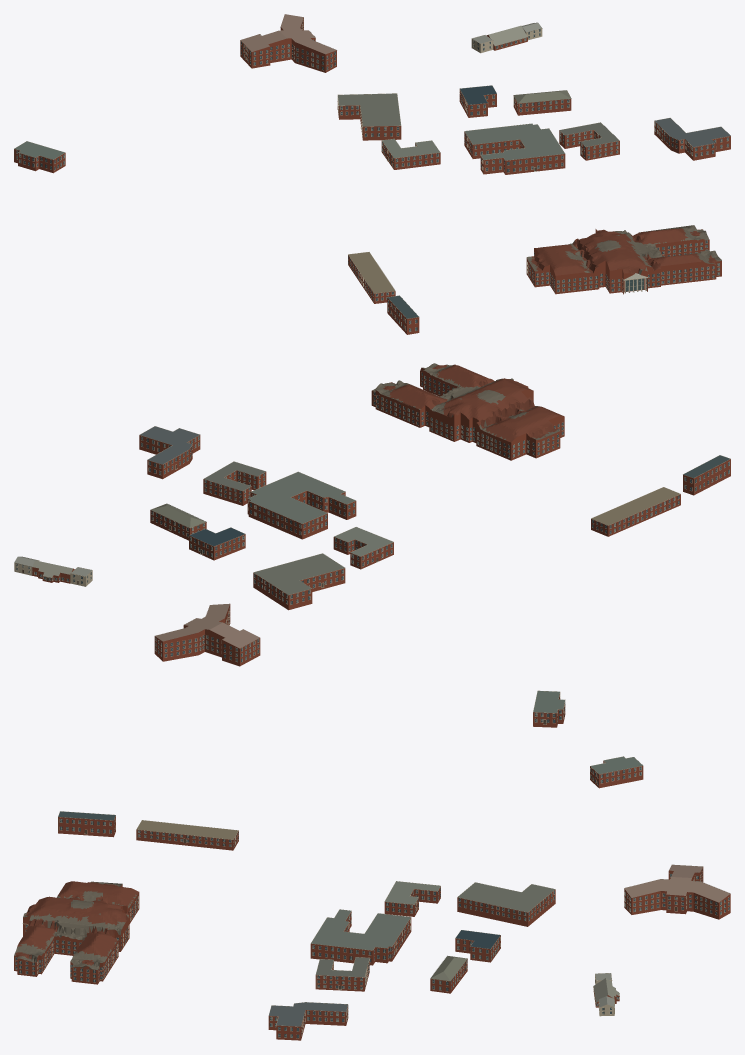
3 renders of one model, top to bottom at view 1: azimuth 30°, elevation 25°; view 2: azimuth 150°, elevation 25°; view 3: azimuth 270°, elevation 25°, orthographic. The views are drawn at different scales.
Visible parts, largest first — view 1: -5_0_271950756_0; view 2: -5_0_271950756_0; view 3: -5_0_271950756_0.
Part boxes in pixels (x1,y1,x2,y2): -5_0_271950756_0: (14, 14, 730, 334); -5_0_271950756_0: (14, 363, 730, 727); -5_0_271950756_0: (14, 756, 730, 1040).
Size of the model in its own units: 413 by 28.48 by 452.
